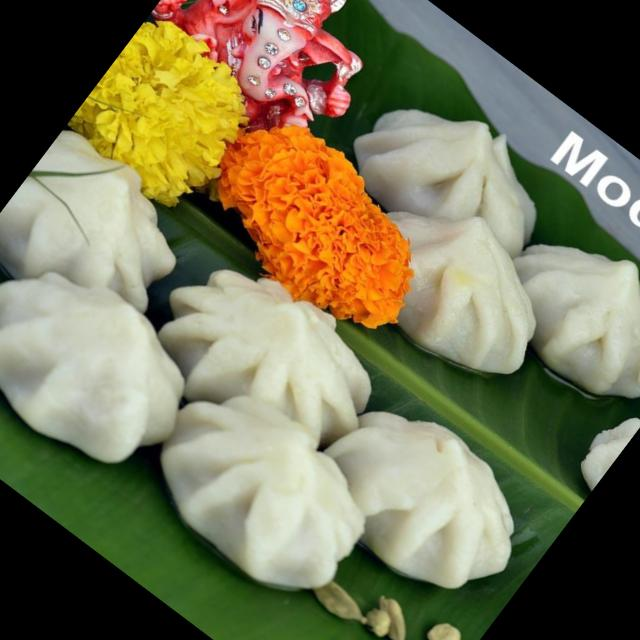modak: (128, 380, 405, 638), (140, 226, 395, 464), (317, 370, 558, 606), (335, 174, 576, 402), (340, 58, 575, 276), (0, 252, 213, 480), (0, 124, 197, 336), (475, 194, 640, 428)
